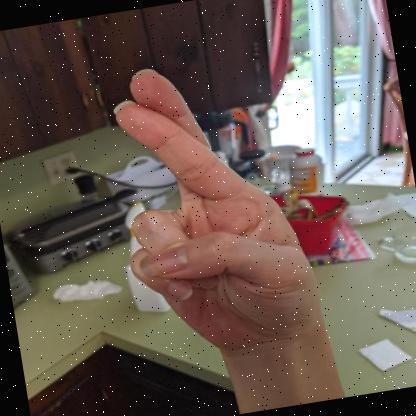R: (113, 68, 330, 361)
